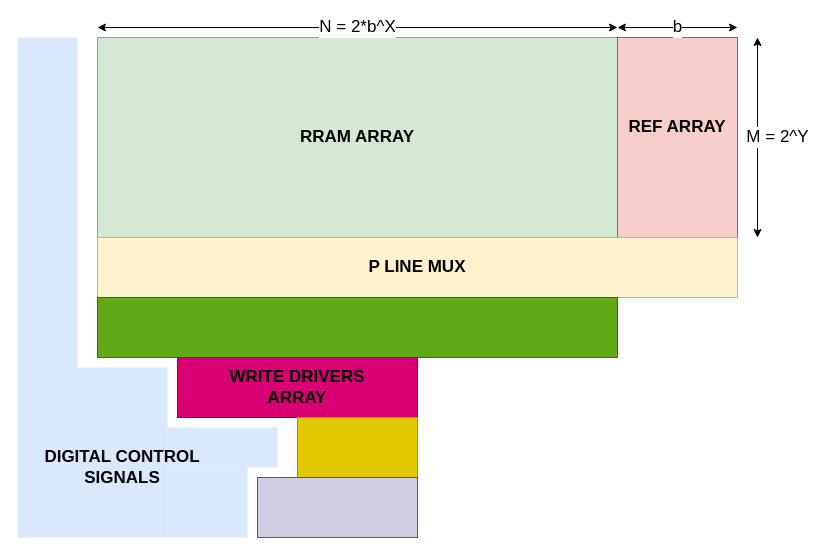
Image size: 825x555. Some labels were removed from this diagram. Here are the shapes that lost their labels. From the top down, the box of each, then its label:
(96, 296, 618, 358): N LINE MUX
(296, 416, 418, 478): SENSE ARRAY SWITCHES
(256, 476, 418, 538): SENSE AMPLIFIERS ARRAY
